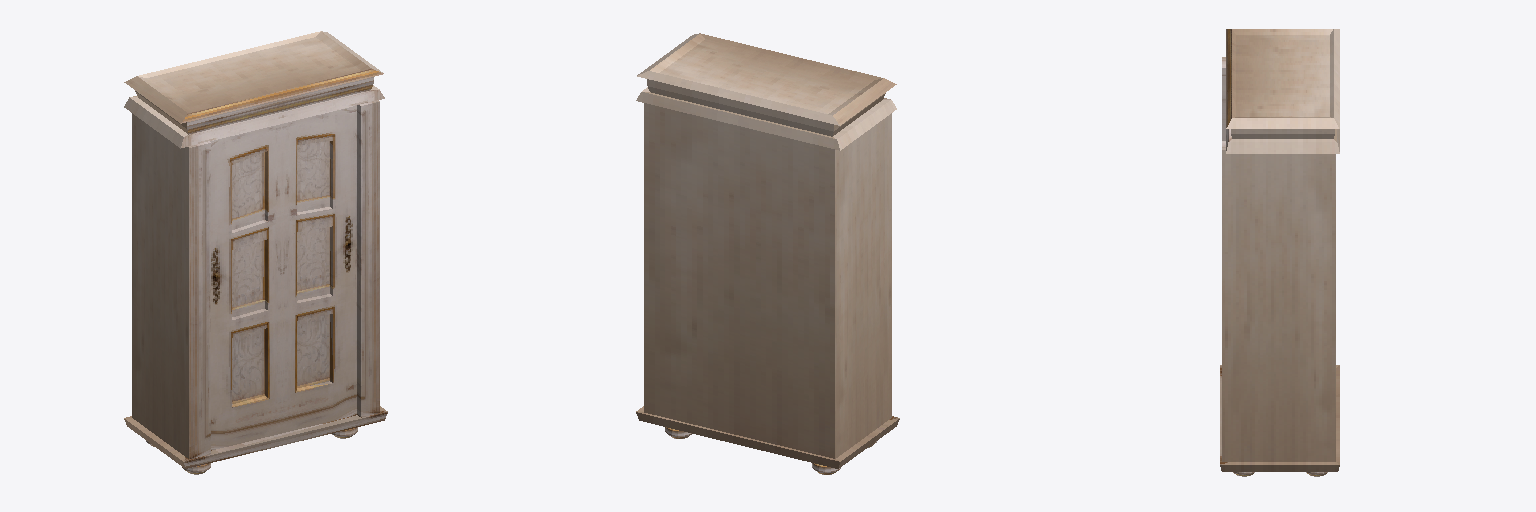
The picture shows the model from 3 angles: view 1: azimuth 30°, elevation 25°; view 2: azimuth 150°, elevation 25°; view 3: azimuth 270°, elevation 25°; orthographic projection.
Visible parts, largest first — view 1: furniture5; view 2: furniture5; view 3: furniture5.
Boxes of the visible parts, x1=… form: furniture5: x1=124, y1=31, x2=387, y2=474; furniture5: x1=636, y1=33, x2=899, y2=474; furniture5: x1=1220, y1=29, x2=1339, y2=476.
Size of the model in its own units: 1.21 by 2.06 by 0.6136.
Materials: 1 (1 with a texture image).